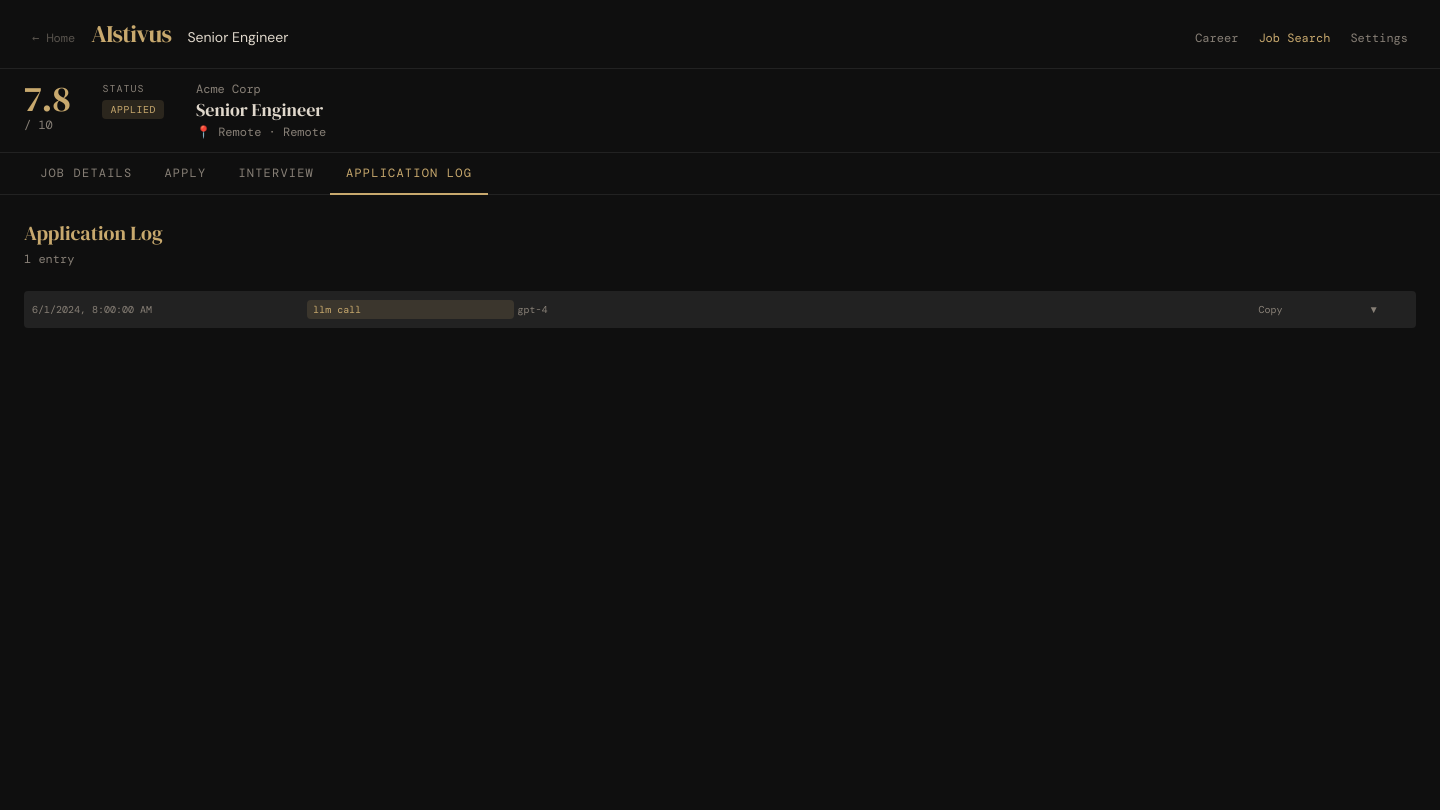
Scenario: JobDetailPage workspace › APPLICATION LOG ActivityLogRow › C6: expanded llm_call entry shows rich LLM view with prompt and raw response
Click the text "gpt-4": click(533, 309) x1=518 y1=302 x2=548 y2=316
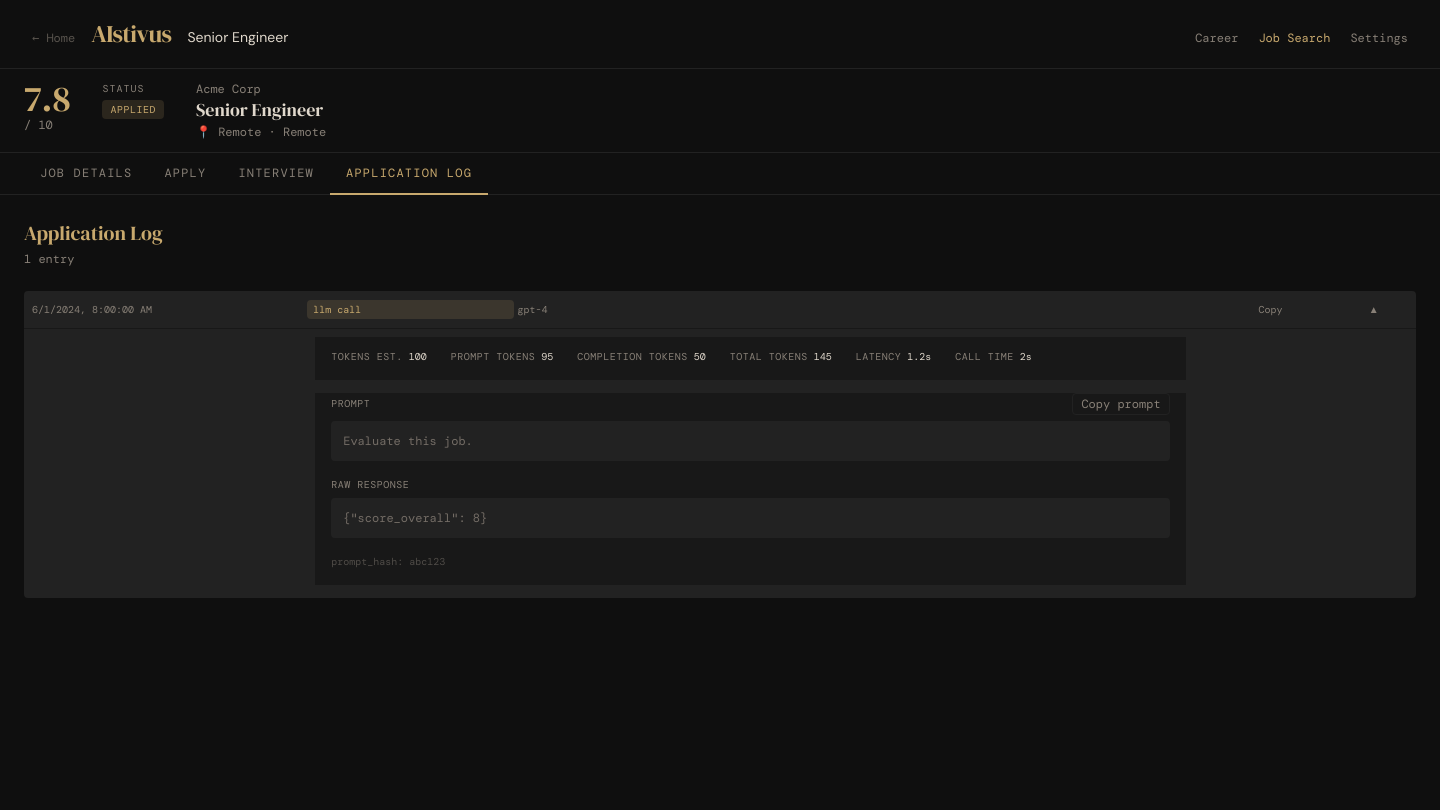
Expected: the text "Raw response" is shown, x1=331 y1=476 x2=409 y2=492
Expected: the text "Evaluate this job." is shown, x1=331 y1=420 x2=1170 y2=460
